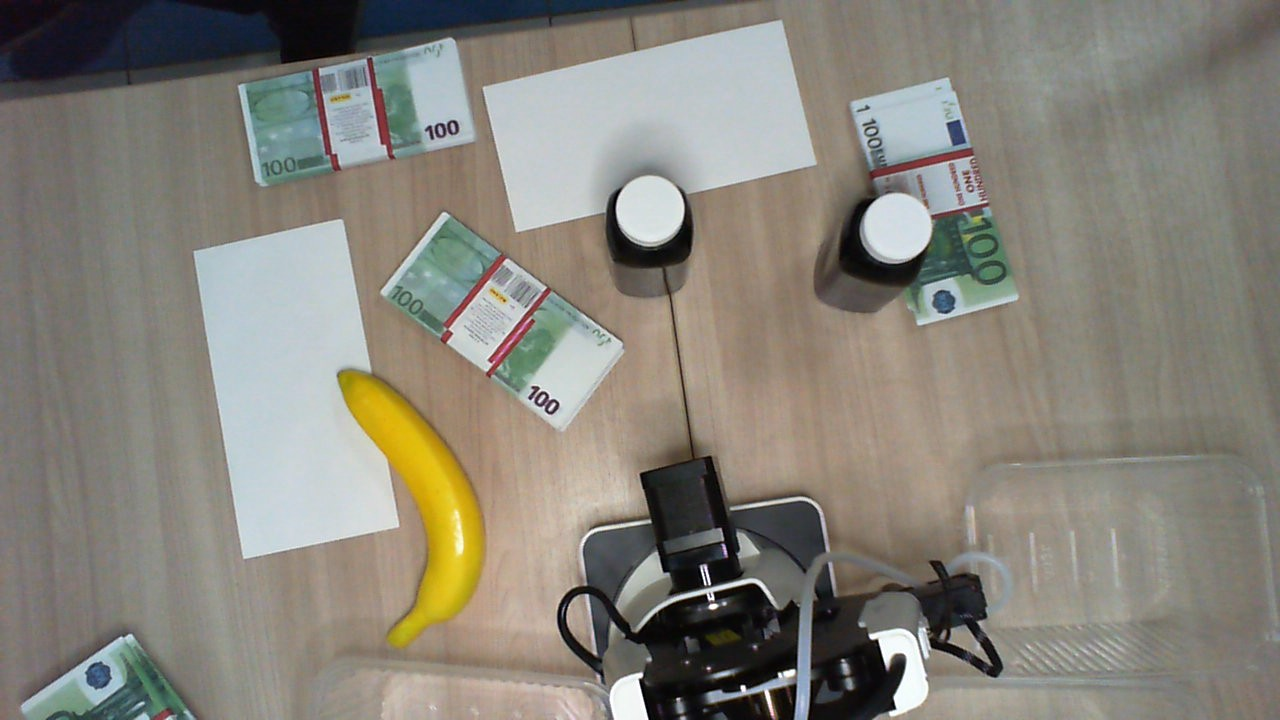banana: (333, 366, 483, 648)
bottle: (842, 196, 936, 288), (608, 180, 694, 269)
convert: (481, 20, 815, 238), (193, 216, 395, 561)
money: (382, 210, 620, 425), (850, 75, 1019, 329), (240, 35, 473, 189), (11, 632, 207, 720)
